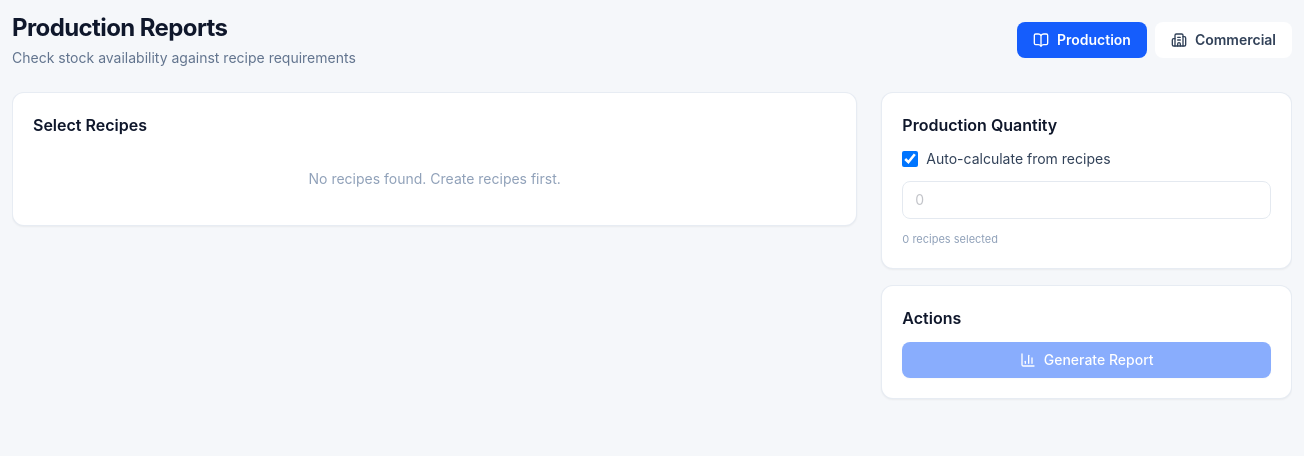
Test: Reports company filter › recovers the company filter when the retry succeeds
Click the button "Commercial".
click(1223, 40)  # box [1155, 22, 1292, 58]
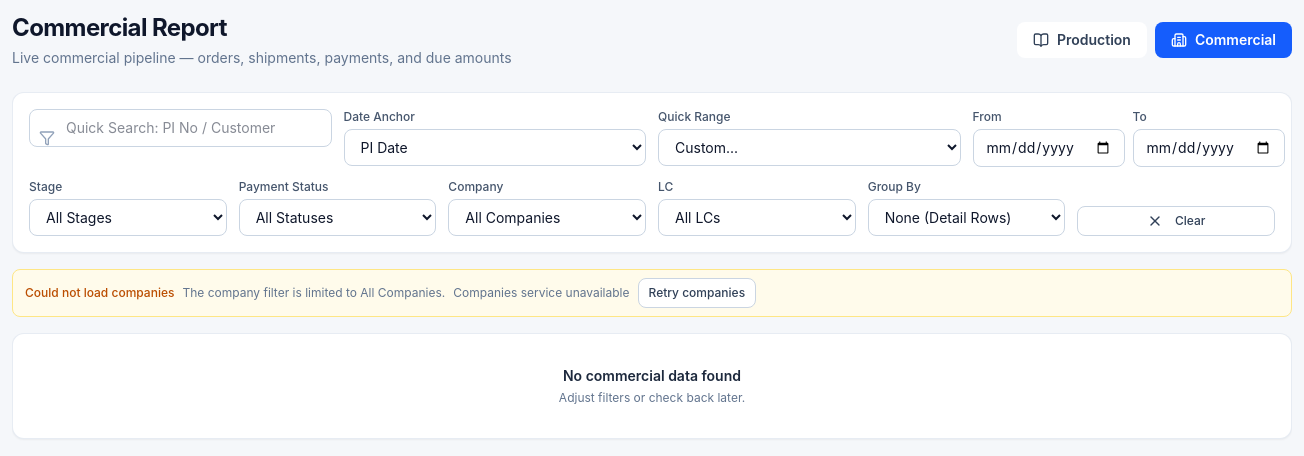
Result: the text "Could not load companies" is shown at [25, 285, 174, 301]
Click the button "Retry companies".
click(697, 293)  # box [638, 278, 756, 308]
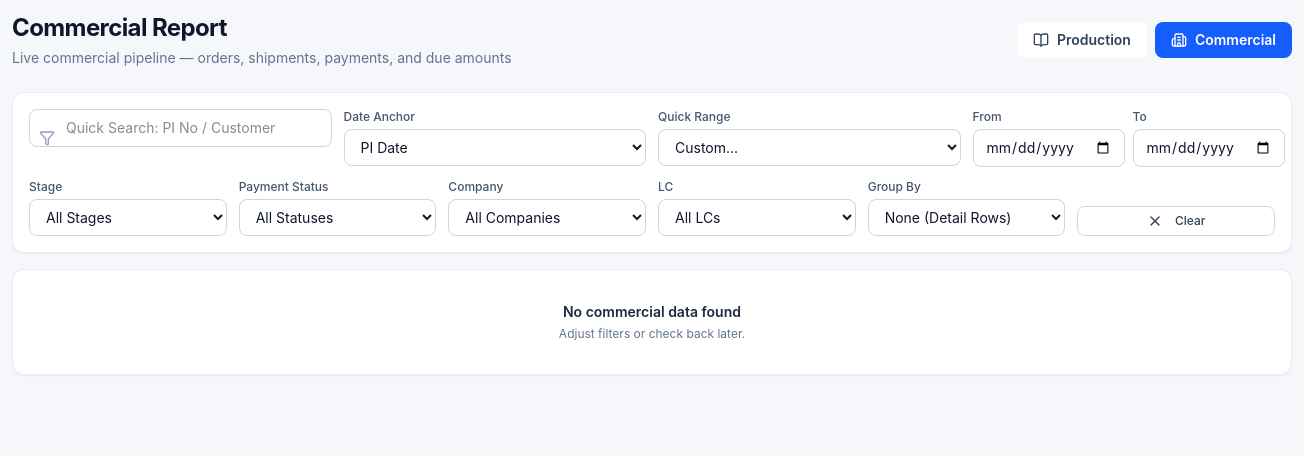
Result: the text "Could not load companies" is gone
